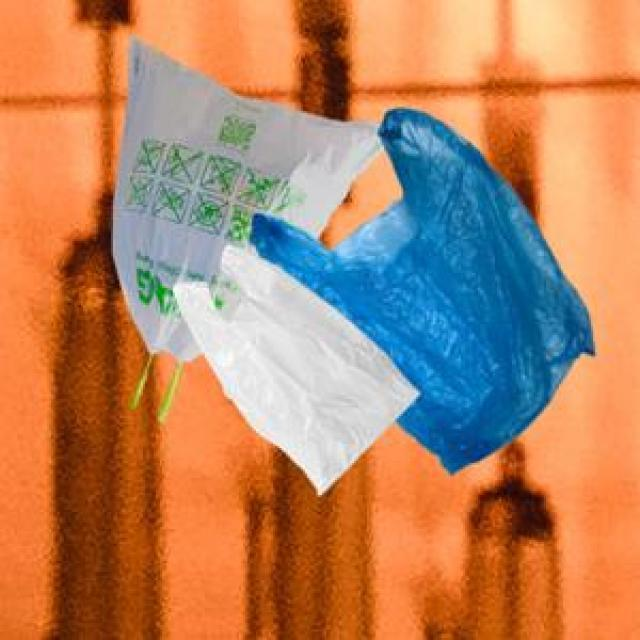waste: (114, 39, 594, 492)
